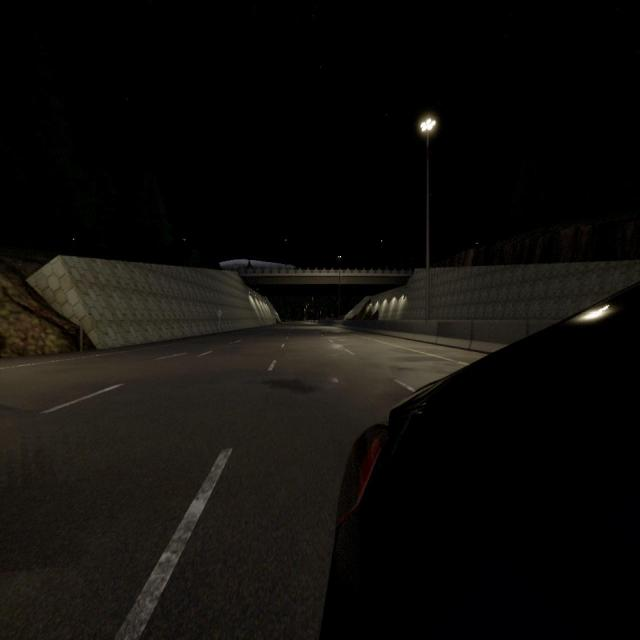Traffic_Signs: (217, 309, 222, 316)
Vehicle: (320, 283, 640, 637)
